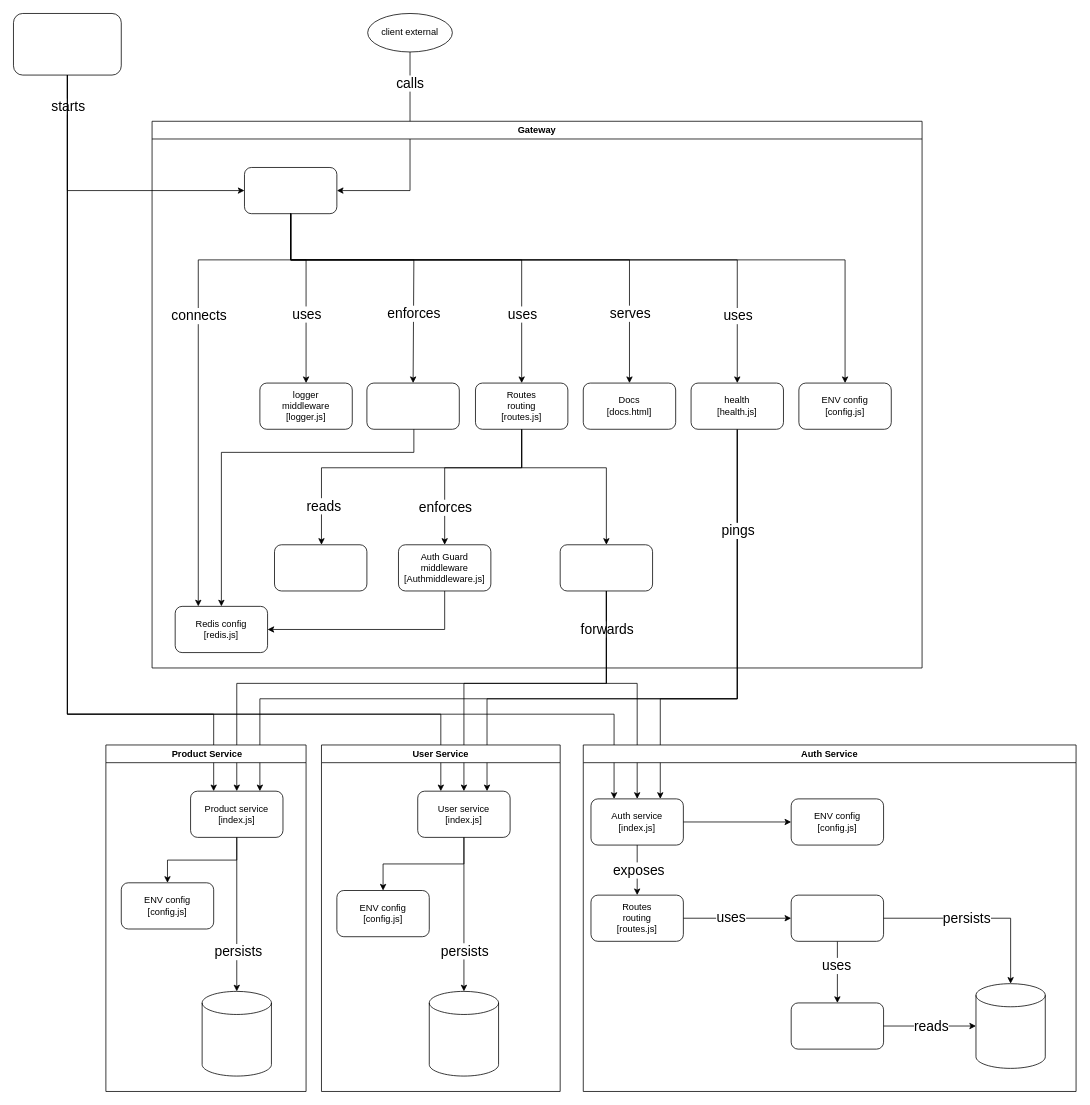
This 1090x1105 diagram has some shape labels left out. Each missing label, with the centre of its shape:
Auth controller [authController.js]: [837,917]
Auth db mongoose connection [mongoosedb.js]: [1010,1025]
Circuit breaker middleware [circuitbreaker.js]: [606,567]
Gateway [index.js]: [290,190]
infra compose orchestration [compose.yaml]: [67,44]
JWT issuance [generatejwt.js]: [837,1025]
product db mongoose connection [mongoosedb.js]: [236,1033]
Rate limit middleware [ratelimiter.js]: [412,405]
service config [services.js]: [320,567]
user db mongoose connection [mongoosedb.js]: [464,1033]
